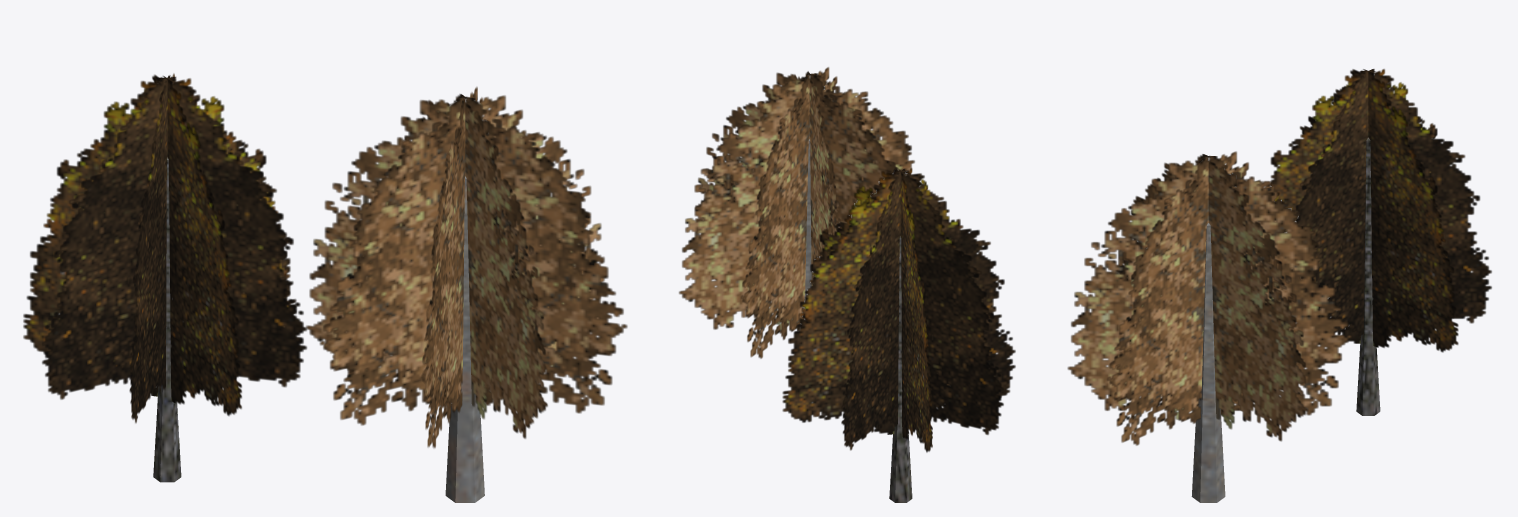
Rendered from trees_29_33_V.glb.
3 views of the same model, side by side, from view 1: azimuth 30°, elevation 25°; view 2: azimuth 150°, elevation 25°; view 3: azimuth 270°, elevation 25° (orthographic). The views are drawn at different scales.
Visible parts, largest first — view 1: tree29, tree33; view 2: tree33, tree29; view 3: tree29, tree33.
Boxes of the visible parts, x1,y1,x2,y2 form: tree29: (306, 87, 627, 502); tree33: (23, 73, 306, 482); tree33: (782, 167, 1015, 502); tree29: (679, 67, 914, 403); tree29: (1067, 151, 1351, 502); tree33: (1270, 69, 1491, 415).
Bounding box in the file's own units: 2.04 × 1.56 × 1.86.
Materials: 2 (2 with a texture image).
